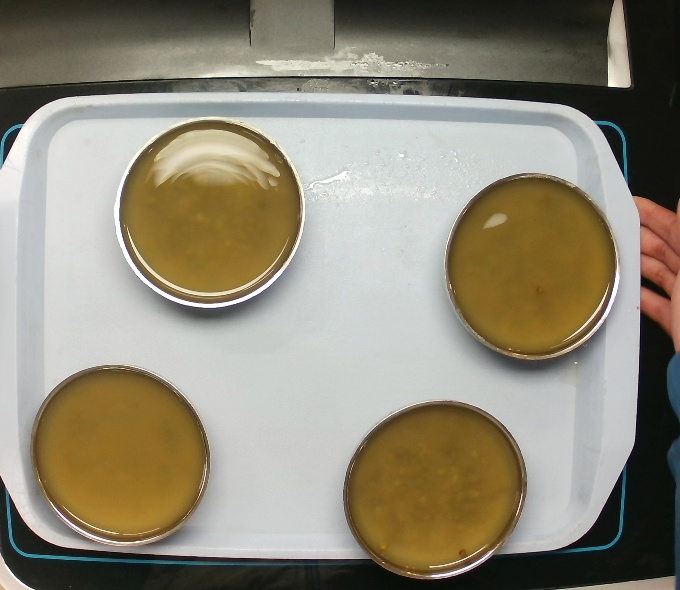wcq-LvDouTang: (114, 117, 303, 304), (29, 363, 216, 542), (445, 171, 619, 359), (344, 404, 528, 574)
